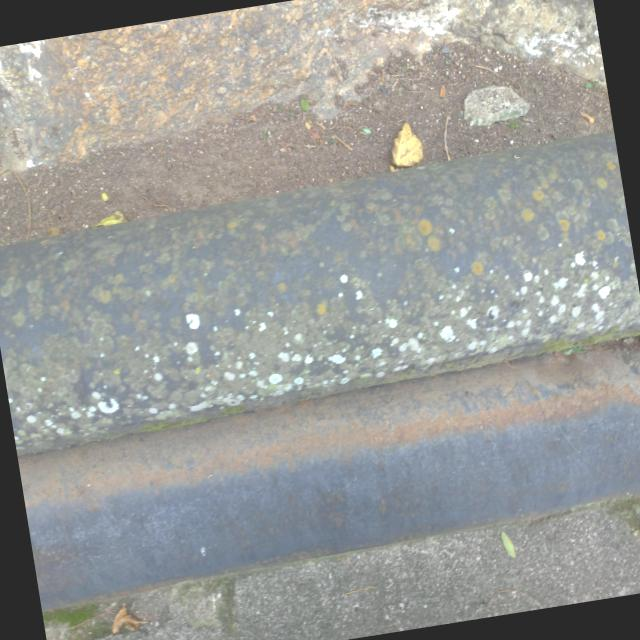gas: (0, 136, 640, 455), (19, 349, 640, 616)
